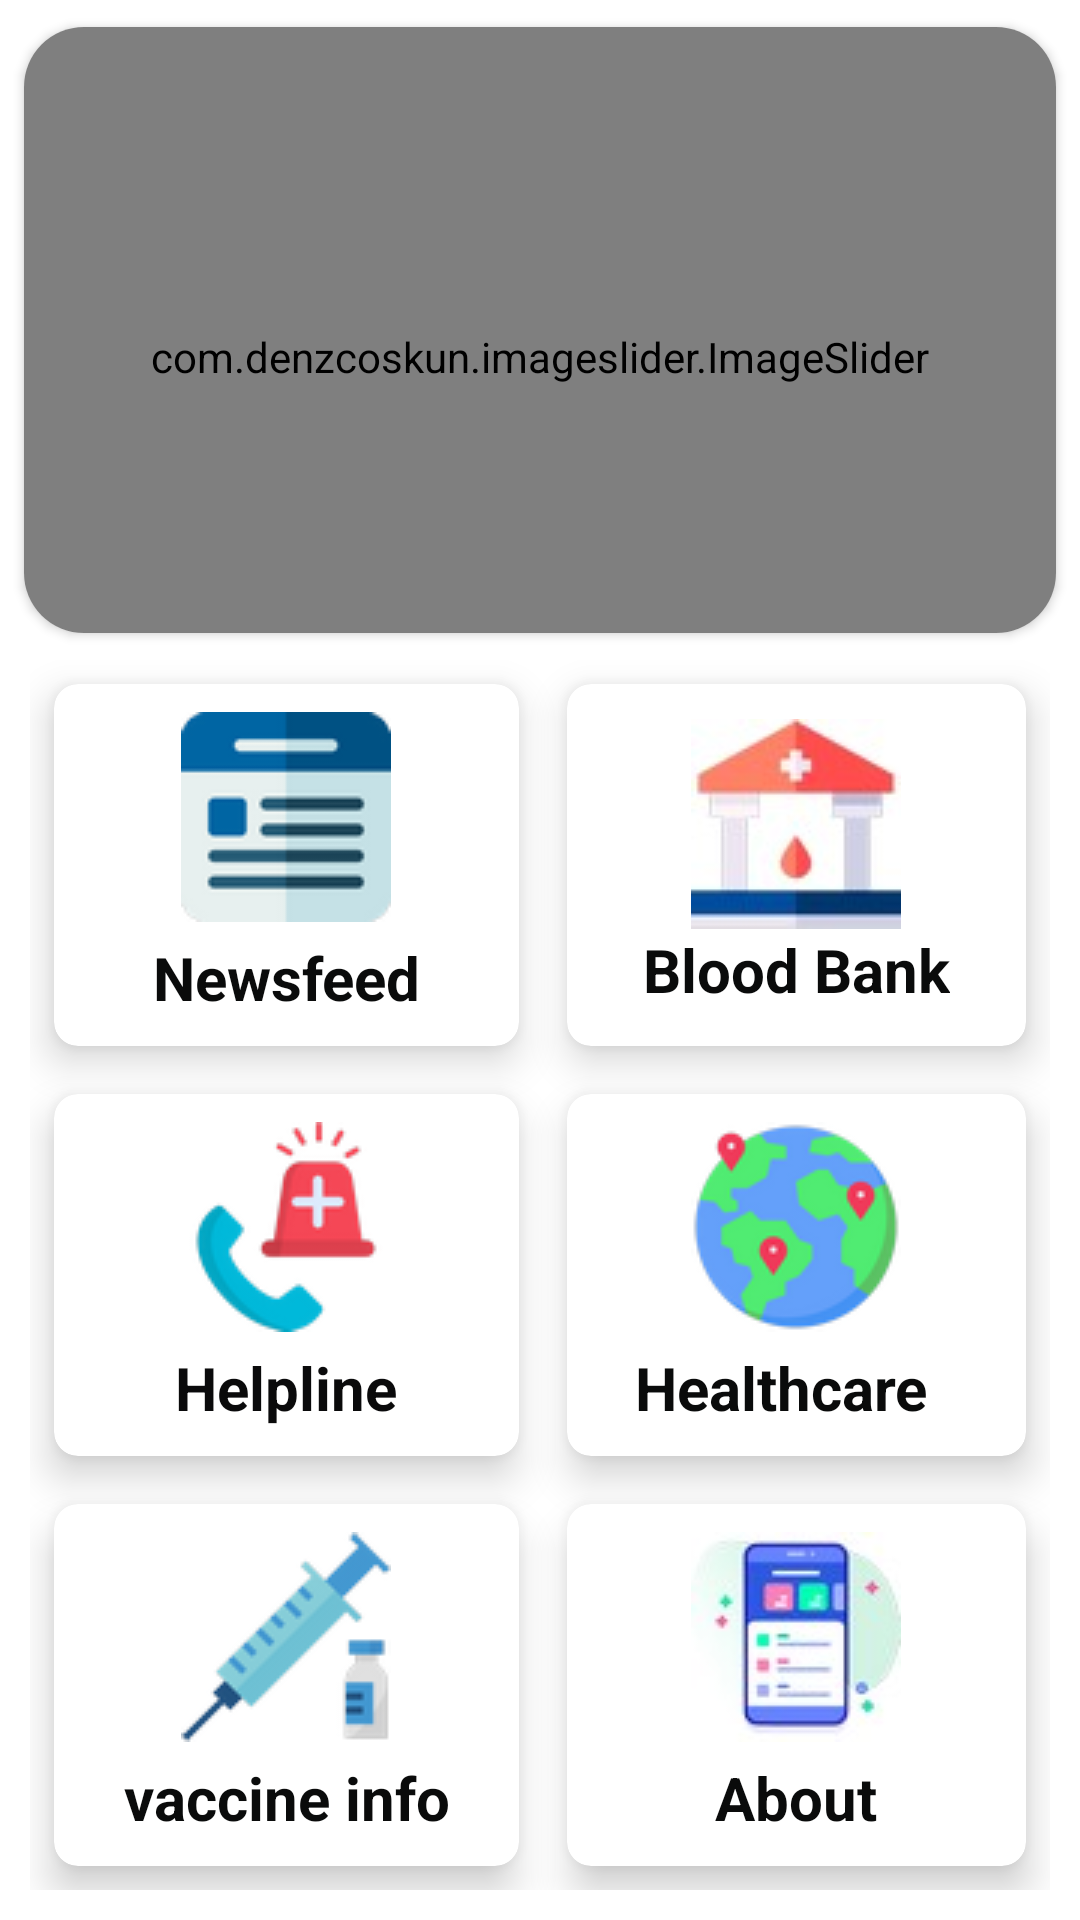

Icon bounding boxes for this 1080px x 1920px phone screenshot, format (x1, y1, x2, y2):
pin: (694, 1125, 899, 1330)
syringe: (181, 1532, 391, 1742)
